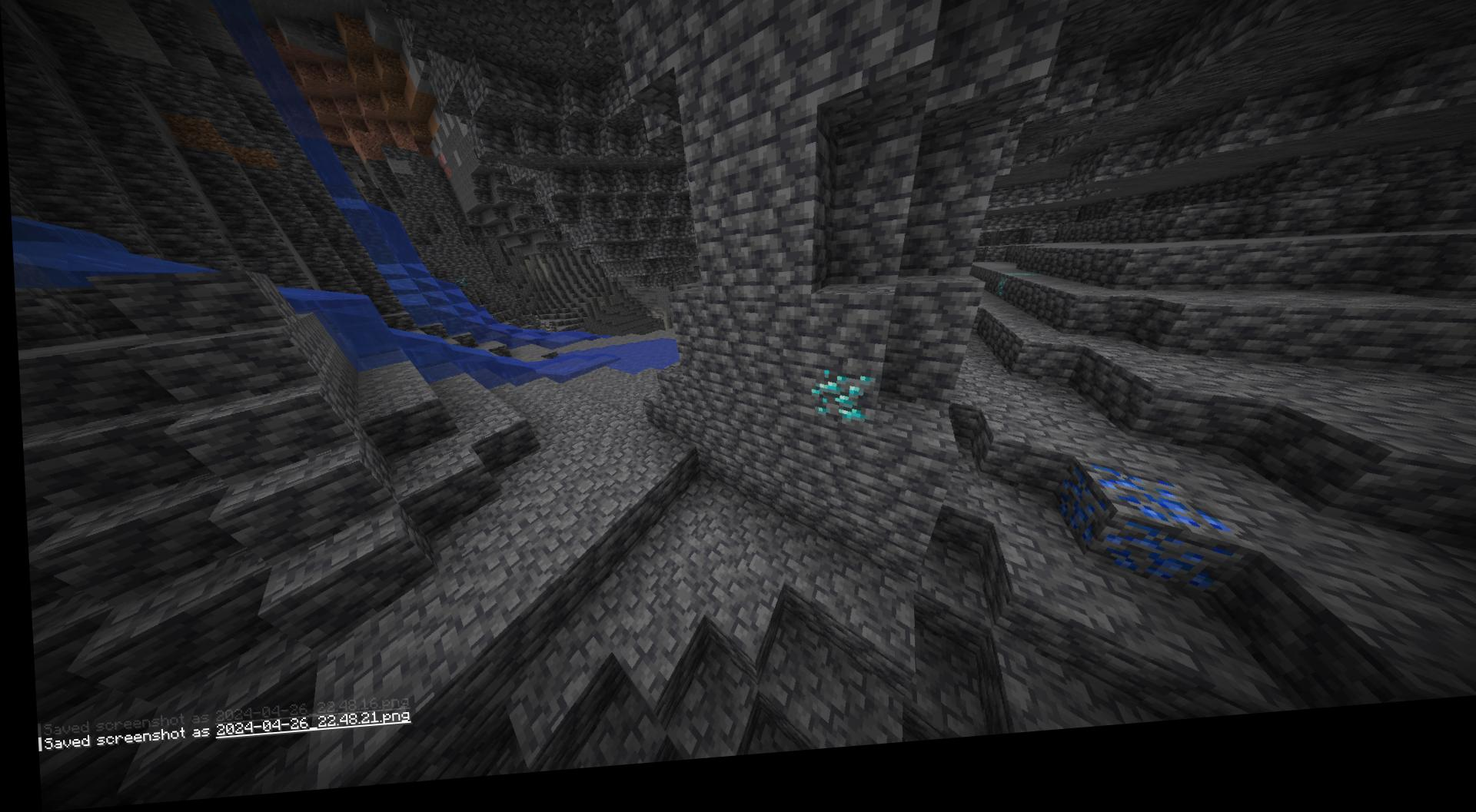diamond ore: (810, 384, 869, 441), (992, 286, 1031, 308), (451, 282, 467, 296)
